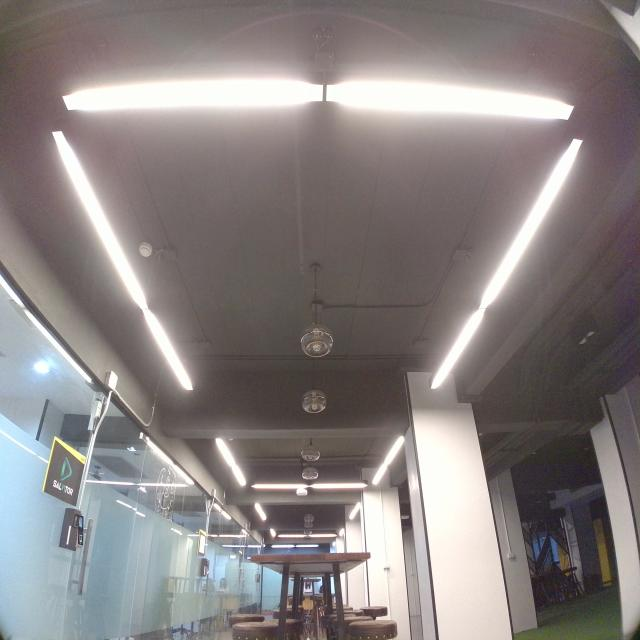lamp2_on: (418, 134, 596, 396), (44, 125, 201, 395), (54, 58, 586, 125)
